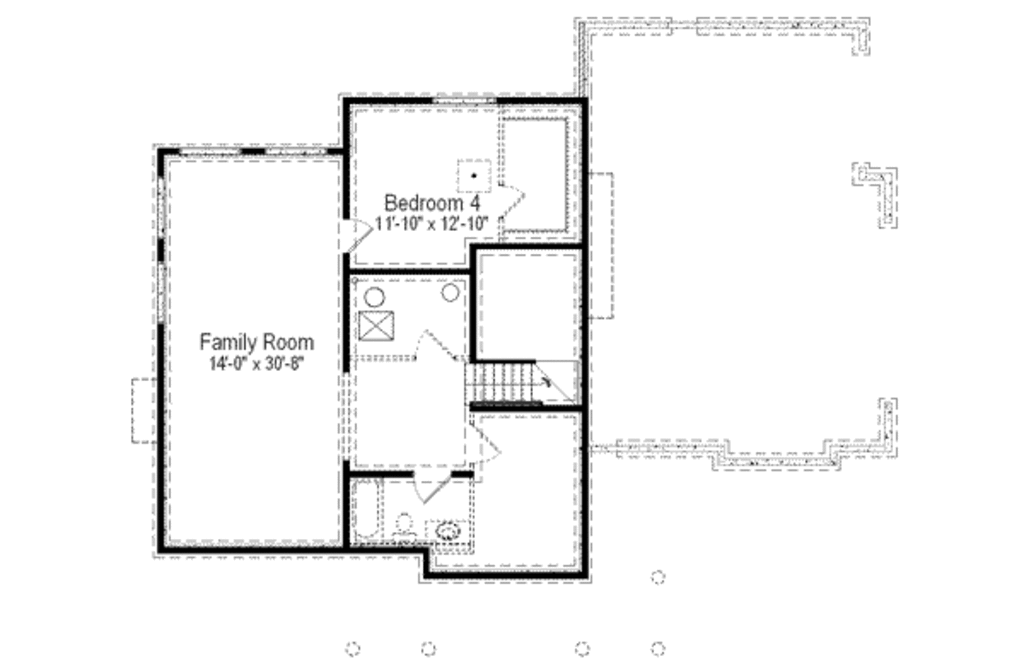door: (458, 414, 504, 462), (403, 464, 455, 504), (332, 212, 380, 254), (414, 324, 457, 364), (497, 184, 532, 220)
large_sink: (391, 513, 417, 545)
small_sink: (420, 515, 473, 549)
stairs: (460, 355, 583, 421)
tub: (340, 471, 388, 544)
window: (426, 92, 504, 113), (265, 140, 331, 160), (173, 144, 245, 161), (154, 253, 168, 329)
